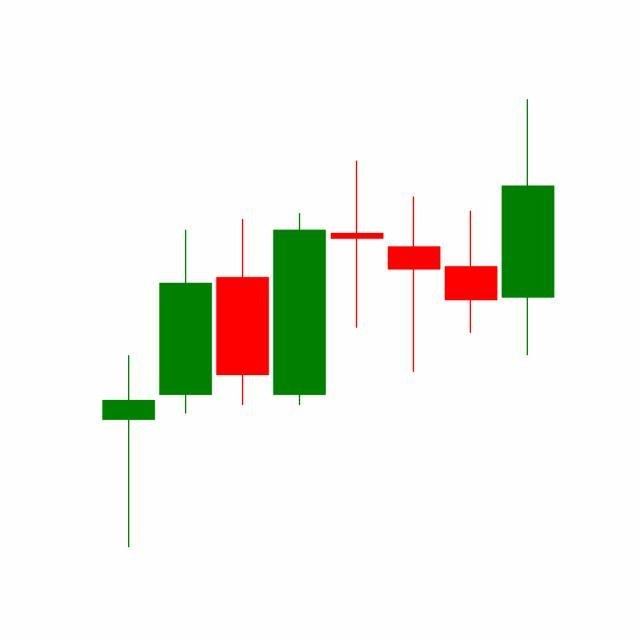Rising-Falling Three Methods: (270, 99, 555, 411)
